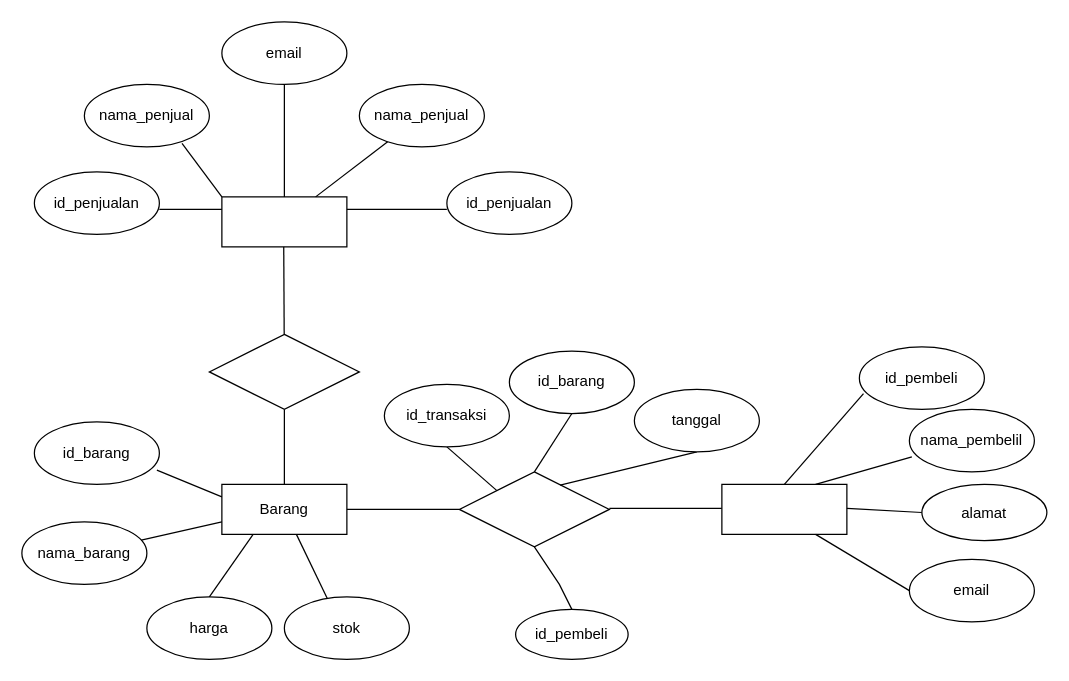
This 1069x681 diagram has some shape labels left out. The shapes that lost their labels are listed below. From the top down, each one's centre as x and y in pixels, then its label:
At point (284, 221): "Penjualan".
At point (283, 371): "Menjual".
At point (533, 509): "Transaksi".
At point (784, 508): "Pembeli".
